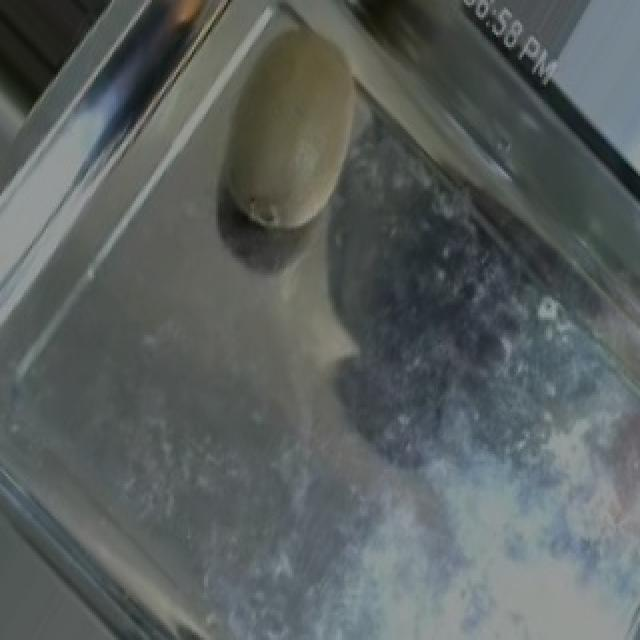Fruit: (182, 0, 408, 260)
